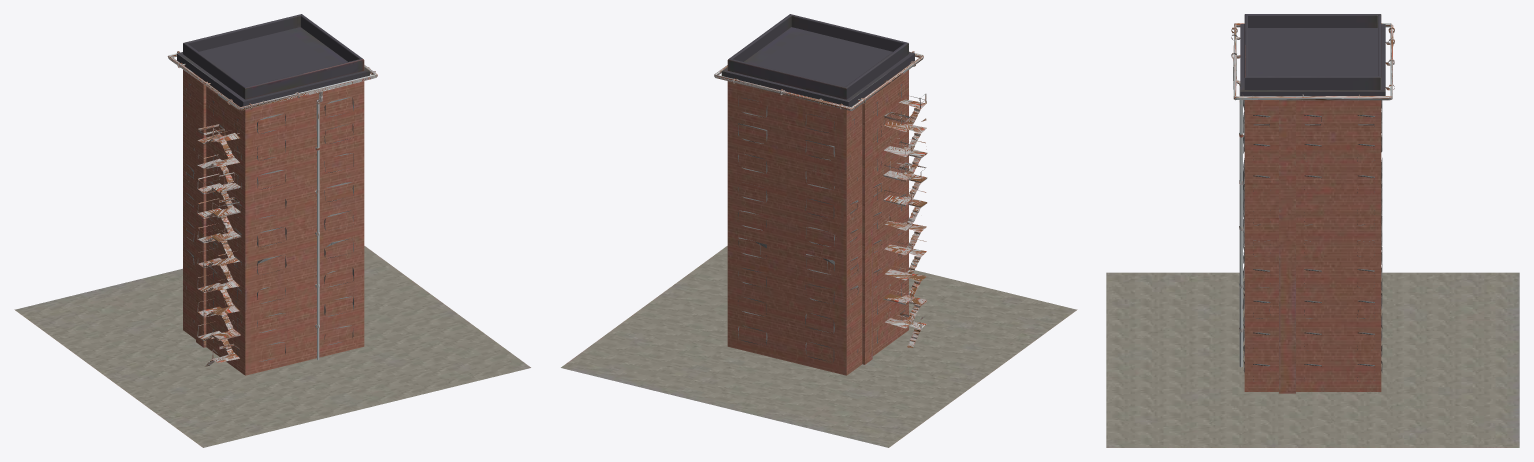
File: fireesc.glb
The picture shows the model from 3 angles, left to right: view 1: azimuth 30°, elevation 25°; view 2: azimuth 150°, elevation 25°; view 3: azimuth 270°, elevation 25°; orthographic projection. The views are drawn at different scales.
Parts seen in each view (by area): view 1: defaultMaterial (×3); view 2: defaultMaterial (×3); view 3: defaultMaterial (×5).
Part boxes in pixels (x1,y1,x2,y2): defaultMaterial (×3): [14, 14, 530, 447]; defaultMaterial (×3): [561, 14, 1077, 447]; defaultMaterial (×5): [1106, 14, 1519, 447].
Size of the model in its own units: 23.81 by 19.99 by 23.7.
Materials: 6 (6 with a texture image).
